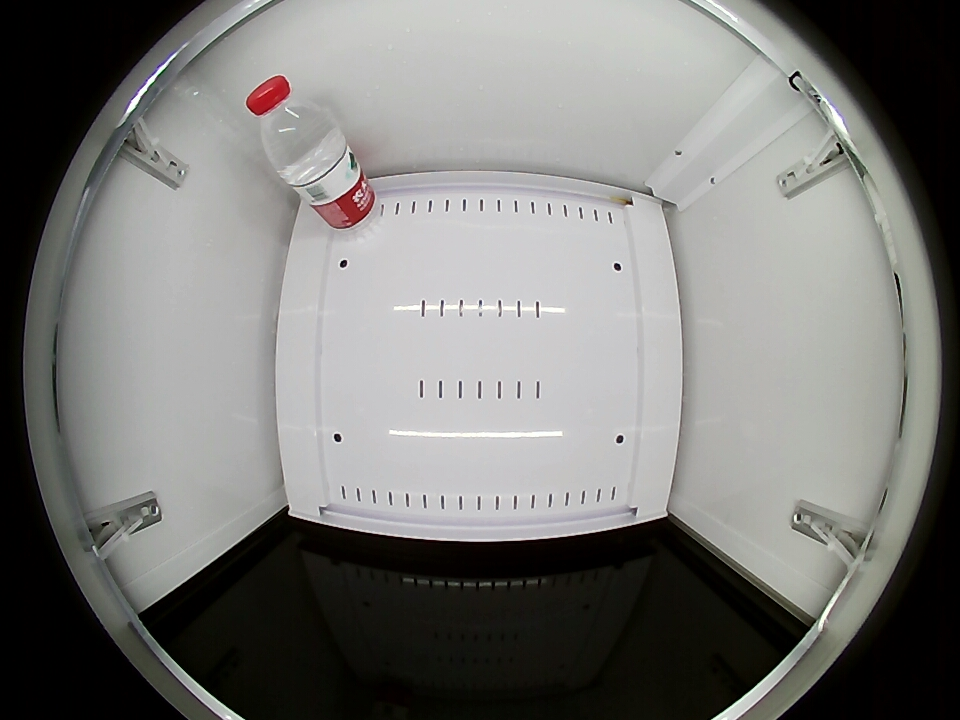nongfushanquan: (245, 75, 336, 171)
